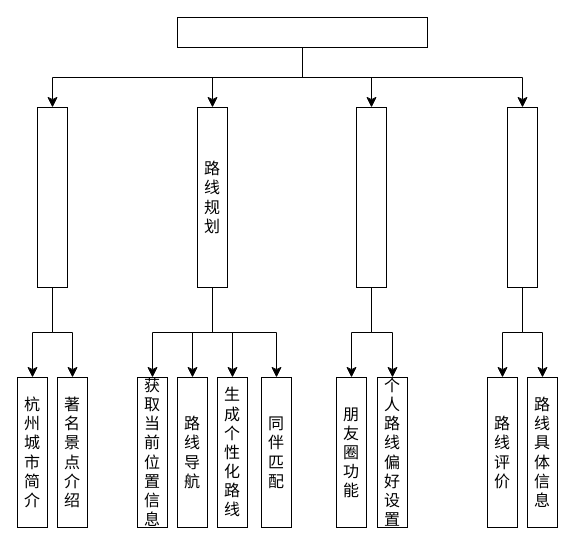
The diagram is 575 pixels wide and 547 high, and some of its shapes have lost their labels. Each missing label, with the centre of its shape:
小程序端功能: point (302, 32)
浏览路线模块: point (522, 197)
社交模块: point (371, 197)
首页功能导航: point (52, 197)
